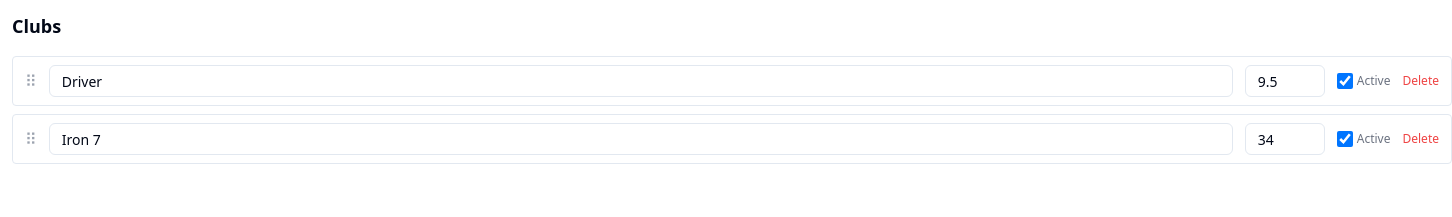
Test case: ClubListClient › reverts loft on updateClubAction error
This screenshot has width=1452, height=217.
Replace the text in the 1st number field named "loft" with "10.5" at (1285, 81), box 1245,65 -> 1325,97
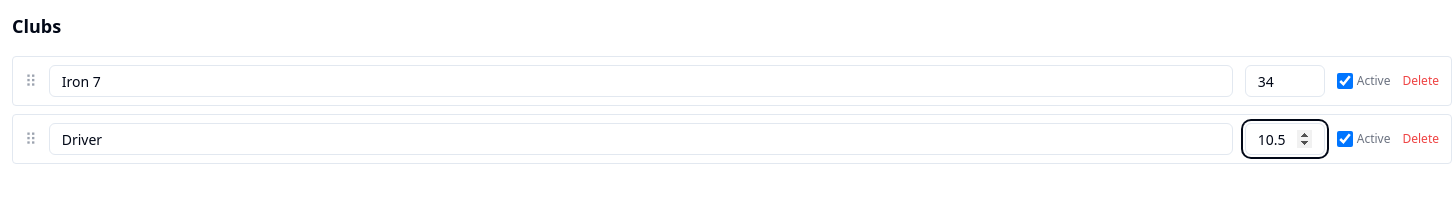
Leave the 2nd number field named "loft", box 1245,123 -> 1325,155
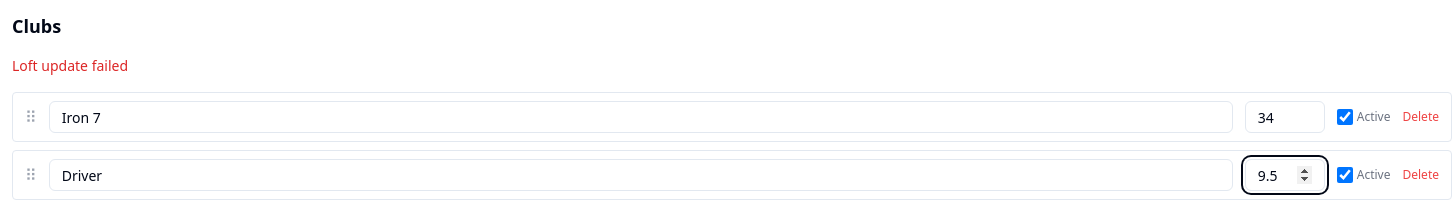
Now the 2nd number field named "loft" holds "9.5", box 1245,159 -> 1325,191
Now the text "Loft update failed" is shown, box 12,56 -> 128,75
